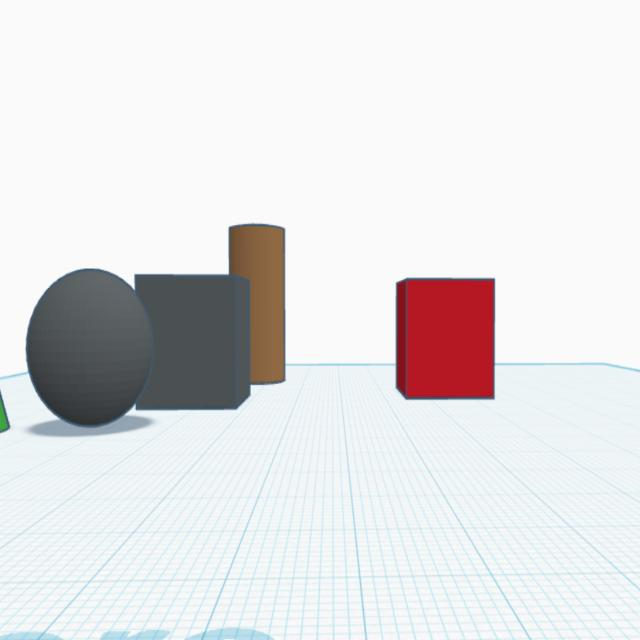cube: (390, 271, 502, 403)
sphere: (21, 264, 154, 432)
